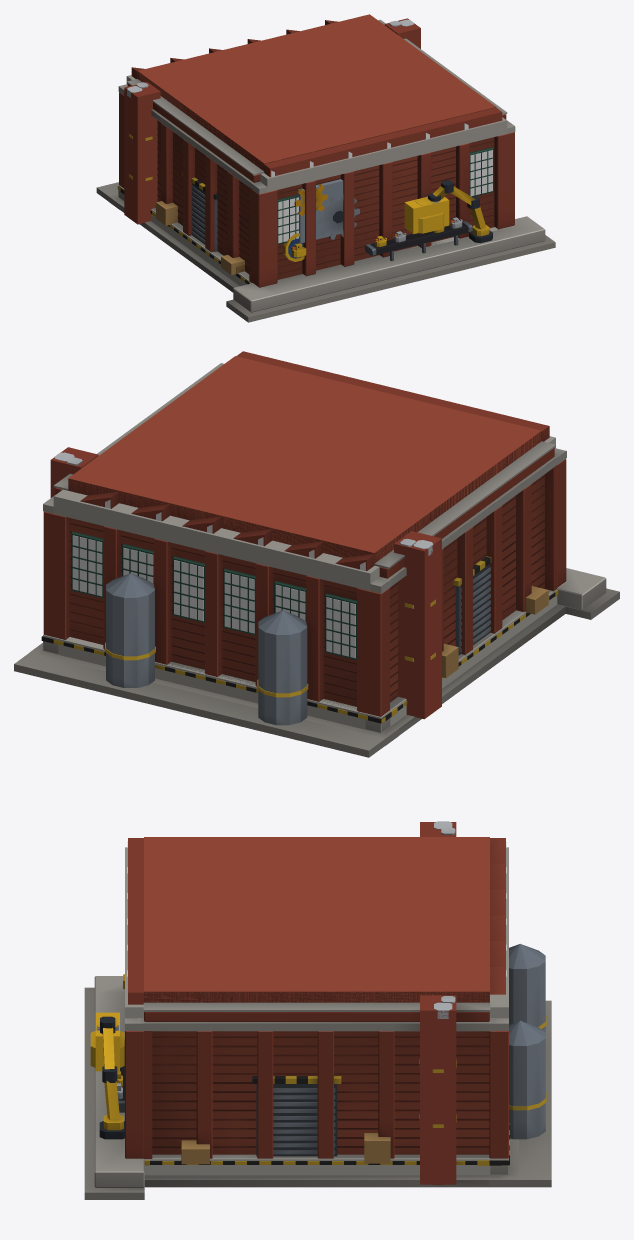
The model's file is RoboDuckFloor.fbx.
3 renders of one model, top to bottom at view 1: azimuth 30°, elevation 25°; view 2: azimuth 150°, elevation 25°; view 3: azimuth 270°, elevation 25°, orthographic. The views are drawn at different scales.
Parts seen in each view (by area): view 1: RD_S_All, RD_F_Rings, RD_F_Smooth, RD_F_Quiet, RD_F_Props, RD_F_Glass; view 2: RD_S_All, RD_F_Rings, RD_F_Smooth, RD_F_Quiet, RD_F_Glass, RD_F_Props; view 3: RD_S_All, RD_F_Rings, RD_F_Smooth, RD_F_Quiet, RD_F_Props.
Boxes of the visible parts, x1,y1,x2,y2 form: RD_S_All: (118,14,514,285); RD_F_Rings: (119,20,514,287); RD_F_Smooth: (96,19,555,322); RD_F_Quiet: (97,84,554,317); RD_F_Props: (127,19,492,274); RD_F_Glass: (271,123,492,243); RD_S_All: (43,351,566,733); RD_F_Rings: (44,426,566,725); RD_F_Smooth: (14,363,619,757); RD_F_Quiet: (14,448,619,750); RD_F_Glass: (72,500,365,658); RD_F_Props: (54,452,548,677); RD_S_All: (95,822,508,1184); RD_F_Rings: (118,838,545,1184); RD_F_Smooth: (84,832,551,1199); RD_F_Quiet: (84,976,551,1192); RD_F_Props: (90,821,545,1164).
Bounding box in the file's own units: 60 × 20 × 60.
